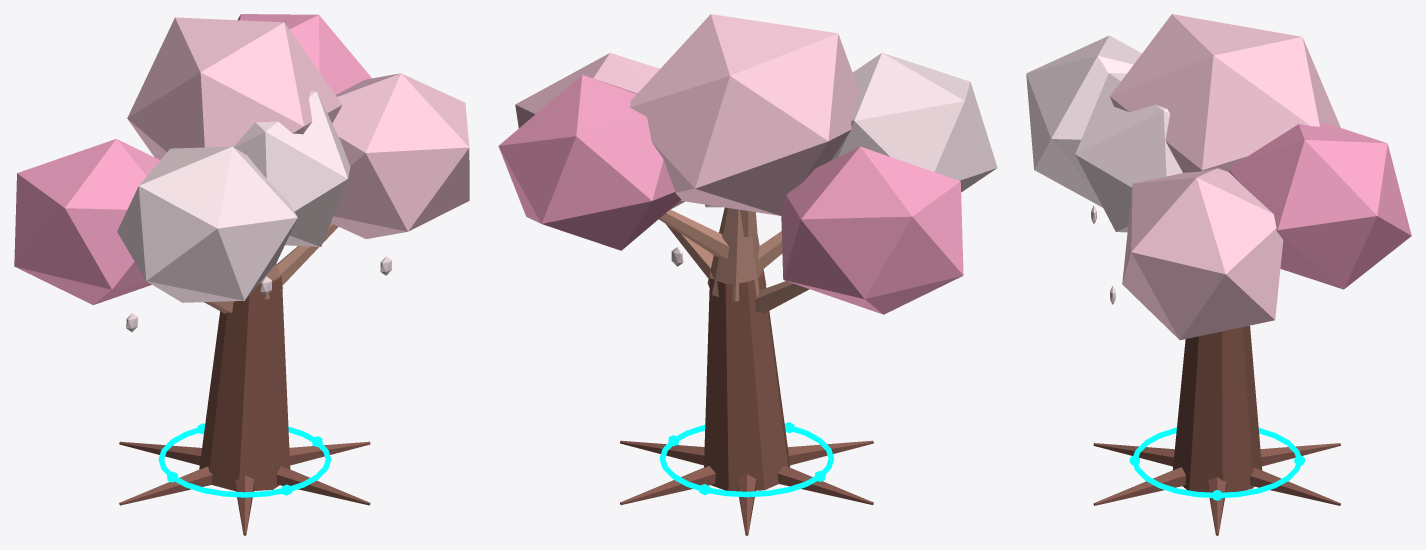
Rendered from mature.glb.
3 renders of one model, left to right at view 1: azimuth 30°, elevation 25°; view 2: azimuth 150°, elevation 25°; view 3: azimuth 270°, elevation 25°, orthographic. The views are drawn at different scales.
Visible parts, largest first — view 1: Blossom_Cloud_03, Blossom_Cloud_05, Blossom_Cloud_02, Blossom_Cloud_01, Trunk_Base, Blossom_Cloud_06, Blossom_Cloud_04, Chrono_Energy_Ring, Root_06, Root_04, Branch_02, Root_03 (+2 smaller); view 2: Blossom_Cloud_05, Blossom_Cloud_01, Blossom_Cloud_04, Trunk_Base, Blossom_Cloud_03, Blossom_Cloud_02, Trunk_Crown, Chrono_Energy_Ring, Branch_04, Root_04, Root_02, Branch_01 (+5 smaller); view 3: Blossom_Cloud_05, Blossom_Cloud_02, Blossom_Cloud_04, Trunk_Base, Blossom_Cloud_03, Blossom_Cloud_06, Chrono_Energy_Ring, Root_06, Root_02, Root_05, Root_03, Root_01.
Boxes of the visible parts, left/top/right/bottom form: Blossom_Cloud_03: left=117, top=146, right=297, bottom=302; Blossom_Cloud_05: left=127, top=17, right=342, bottom=159; Blossom_Cloud_02: left=330, top=73, right=469, bottom=238; Blossom_Cloud_01: left=14, top=139, right=160, bottom=305; Trunk_Base: left=199, top=275, right=290, bottom=491; Blossom_Cloud_06: left=233, top=91, right=350, bottom=246; Blossom_Cloud_04: left=237, top=14, right=371, bottom=94; Chrono_Energy_Ring: left=158, top=426, right=331, bottom=497; Root_06: left=276, top=466, right=370, bottom=505; Root_04: left=119, top=466, right=212, bottom=505; Branch_02: left=277, top=223, right=338, bottom=285; Root_03: left=119, top=441, right=201, bottom=465; Blossom_Cloud_05: left=630, top=14, right=859, bottom=215; Blossom_Cloud_01: left=781, top=146, right=963, bottom=314; Blossom_Cloud_04: left=498, top=75, right=681, bottom=250; Trunk_Base: left=704, top=270, right=790, bottom=491; Blossom_Cloud_03: left=831, top=52, right=997, bottom=192; Blossom_Cloud_02: left=515, top=53, right=684, bottom=209; Trunk_Crown: left=707, top=207, right=766, bottom=301; Chrono_Energy_Ring: left=659, top=424, right=834, bottom=497; Branch_04: left=659, top=209, right=729, bottom=258; Root_04: left=777, top=465, right=873, bottom=504; Root_02: left=620, top=466, right=715, bottom=504; Branch_01: left=755, top=281, right=809, bottom=313; Blossom_Cloud_05: left=1110, top=14, right=1340, bottom=172; Blossom_Cloud_02: left=1122, top=168, right=1283, bottom=340; Blossom_Cloud_04: left=1229, top=122, right=1411, bottom=289; Trunk_Base: left=1173, top=325, right=1262, bottom=492; Blossom_Cloud_03: left=1026, top=35, right=1141, bottom=207; Blossom_Cloud_06: left=1075, top=73, right=1182, bottom=232; Chrono_Energy_Ring: left=1132, top=427, right=1301, bottom=497; Root_06: left=1093, top=467, right=1185, bottom=505; Root_02: left=1250, top=467, right=1340, bottom=505; Root_05: left=1093, top=443, right=1174, bottom=466; Root_03: left=1260, top=443, right=1340, bottom=466; Root_01: left=1208, top=477, right=1226, bottom=535.
Size of the model in its own units: 3.8 by 3.63 by 2.88.
